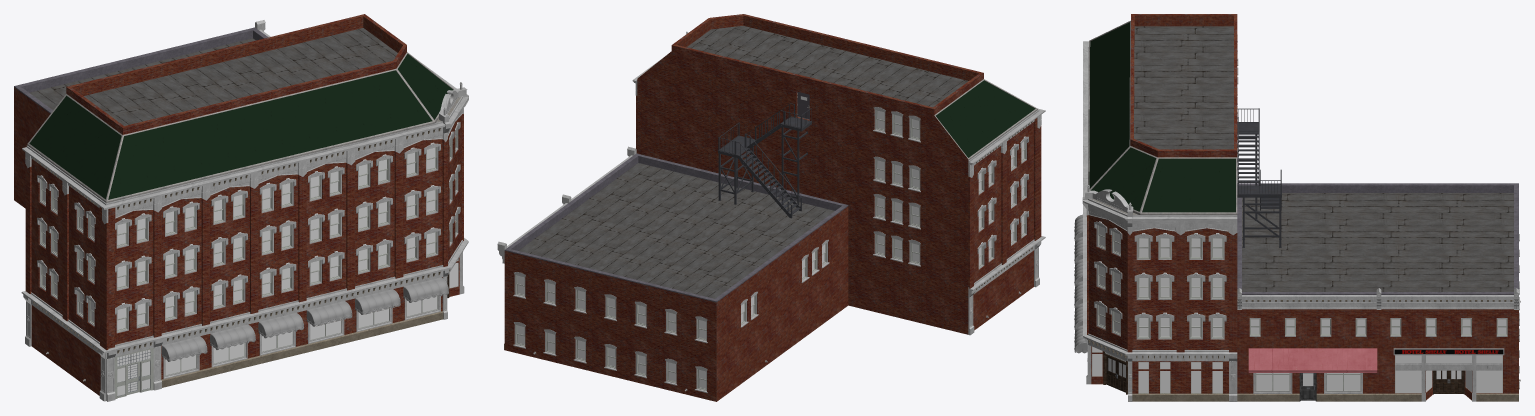
The model's file is Building_35.fbx.
3 views of the same model, side by side, from view 1: azimuth 30°, elevation 25°; view 2: azimuth 150°, elevation 25°; view 3: azimuth 270°, elevation 25° (orthographic). The views are drawn at different scales.
Parts seen in each view (by area): view 1: Building_35_LOD_0; view 2: Building_35_LOD_0; view 3: Building_35_LOD_0.
Boxes of the visible parts, x1=… form: Building_35_LOD_0: x1=14, y1=14, x2=468, y2=401; Building_35_LOD_0: x1=497, y1=14, x2=1045, y2=401; Building_35_LOD_0: x1=1074, y1=14, x2=1520, y2=401.
Size of what is drawn, in the model's own units: 3451 by 2027 by 3532.
